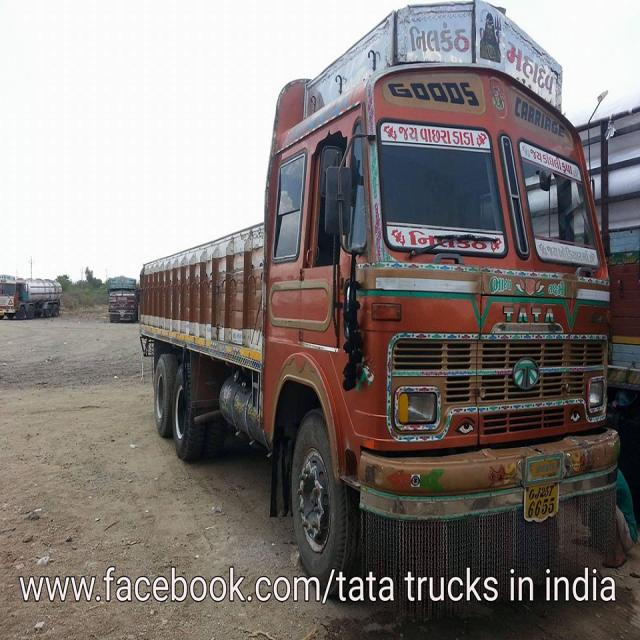truck: (142, 3, 628, 591), (0, 270, 69, 327), (102, 270, 140, 326)
